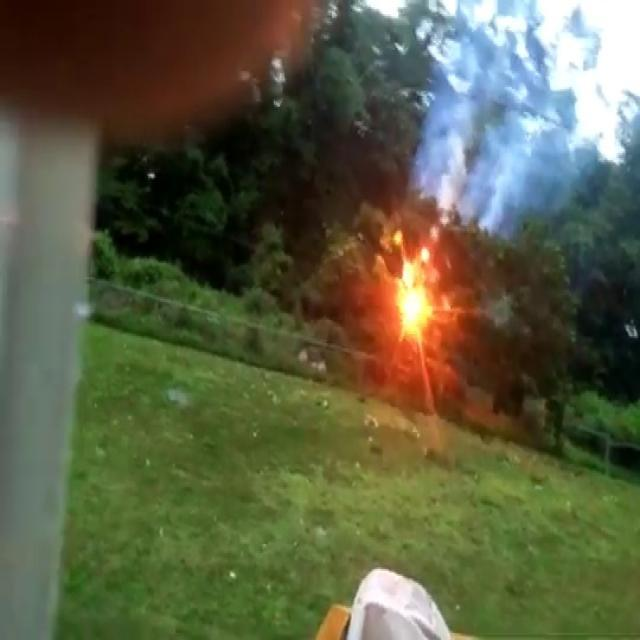Fire: (387, 238, 445, 342)
Smoke: (412, 42, 626, 230)
